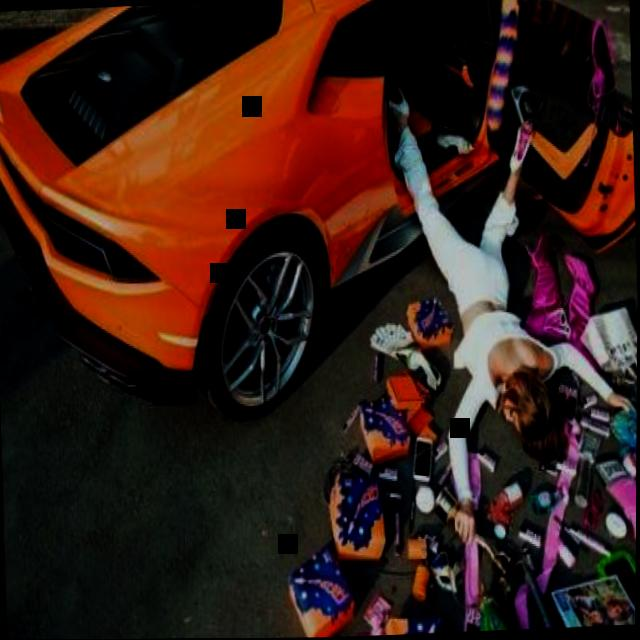Fall-Detected: (369, 39, 623, 545)
